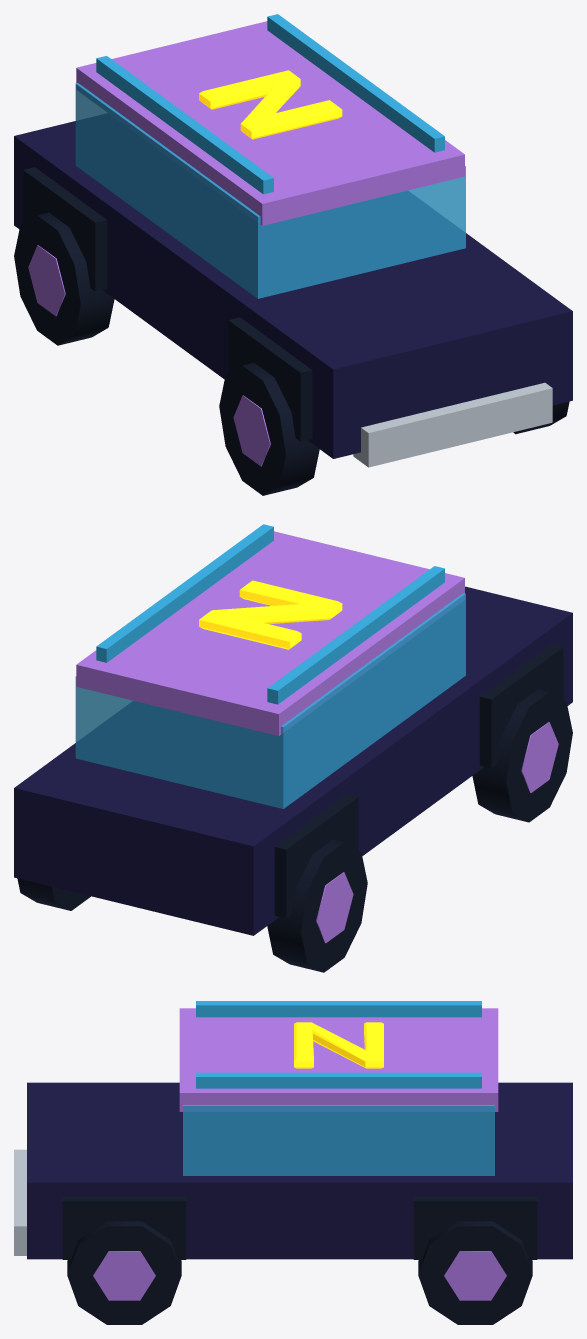
Rendered from zaldi-suv-lowpoly.glb.
3 renders of one model, top to bottom at view 1: azimuth 30°, elevation 25°; view 2: azimuth 150°, elevation 25°; view 3: azimuth 270°, elevation 25°, orthographic. The views are drawn at different scales.
Parts seen in each view (by area): view 1: Zaldi_LowPoly_Suv; view 2: Zaldi_LowPoly_Suv; view 3: Zaldi_LowPoly_Suv.
Boxes of the visible parts, box(x1,y1,x2,y2) form: Zaldi_LowPoly_Suv: box(14, 14, 572, 495); Zaldi_LowPoly_Suv: box(14, 524, 572, 972); Zaldi_LowPoly_Suv: box(14, 1001, 572, 1324).
Size of the model in its own units: 1.28 by 1.12 by 2.5.
